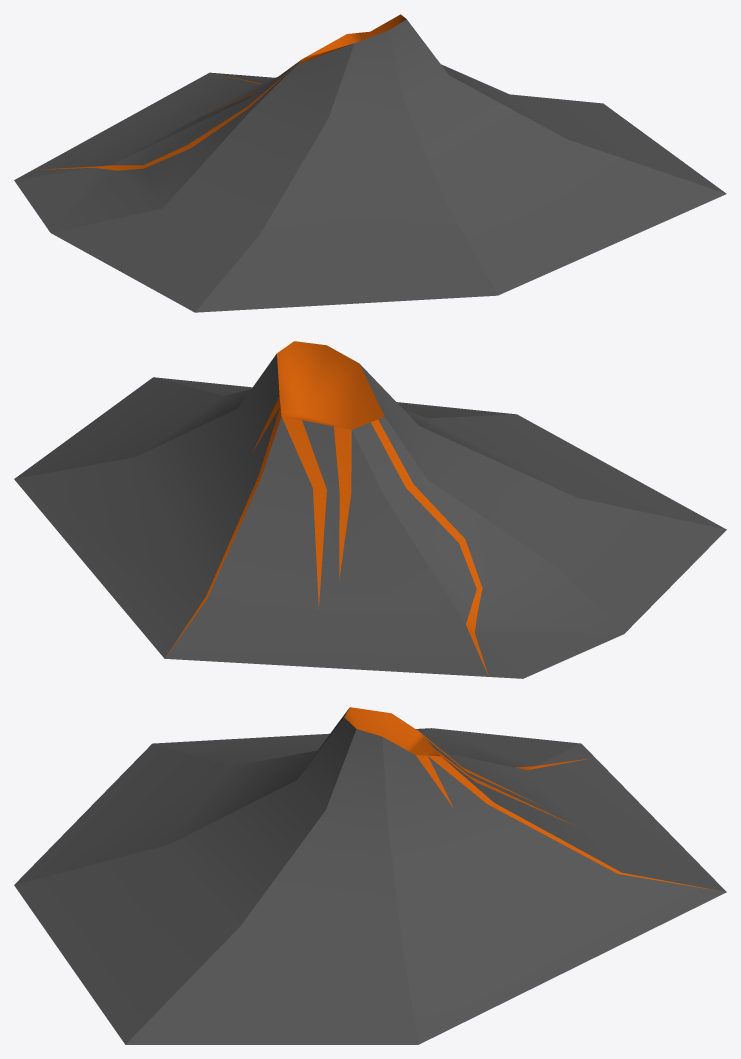
The model's file is volcano.fbx.
The picture shows the model from 3 angles, top to bottom: view 1: azimuth 30°, elevation 25°; view 2: azimuth 150°, elevation 25°; view 3: azimuth 270°, elevation 25°; orthographic projection. The views are drawn at different scales.
Parts seen in each view (by area): view 1: Plane; view 2: Plane; view 3: Plane.
Boxes of the visible parts, x1,y1,x2,y2 form: Plane: (14, 14, 726, 312); Plane: (14, 341, 726, 678); Plane: (14, 707, 726, 1044).
Size of the model in its own units: 52.56 by 14.47 by 50.
